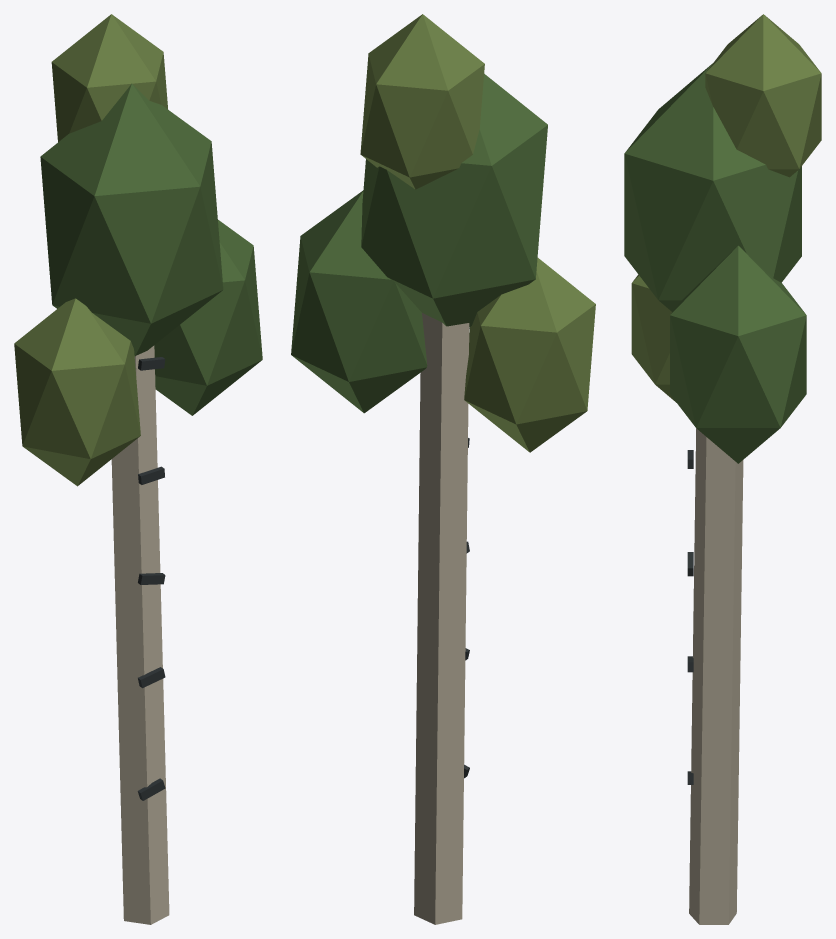
Rendered from forest_birch.glb.
3 views of the same model, side by side, from view 1: azimuth 30°, elevation 25°; view 2: azimuth 150°, elevation 25°; view 3: azimuth 270°, elevation 25° (orthographic). The views are drawn at different scales.
Parts seen in each view (by area): view 1: birch leaves, birch trunk, birch leaves.002, birch leaves.001, birch leaves.003; view 2: birch trunk, birch leaves, birch leaves.001, birch leaves.002, birch leaves.003; view 3: birch leaves, birch trunk, birch leaves.001, birch leaves.003, birch leaves.002.
Boxes of the visible parts, x1,y1,x2,y2 form: birch leaves: [40, 83, 223, 356]; birch trunk: [111, 345, 169, 924]; birch leaves.002: [14, 298, 140, 486]; birch leaves.001: [154, 220, 262, 415]; birch leaves.003: [51, 14, 167, 141]; birch trunk: [414, 313, 469, 924]; birch leaves: [361, 74, 547, 327]; birch leaves.001: [291, 190, 427, 413]; birch leaves.002: [464, 258, 595, 452]; birch leaves.003: [360, 14, 484, 189]; birch leaves: [624, 63, 801, 311]; birch trunk: [689, 428, 743, 924]; birch leaves.001: [670, 245, 806, 463]; birch leaves.003: [705, 14, 821, 177]; birch leaves.002: [631, 274, 676, 402].
Size of the model in its own units: 0.5919 by 1.97 by 0.3926.
